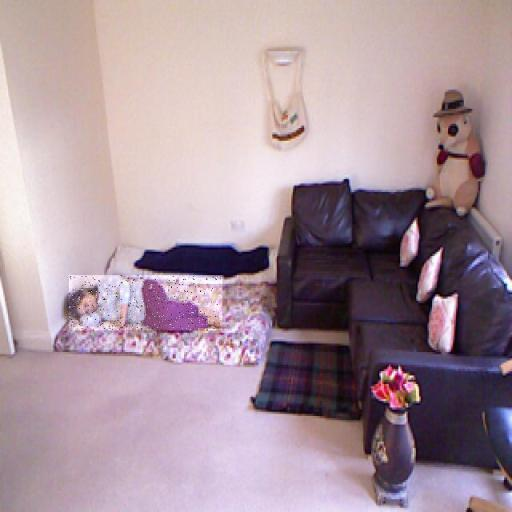Fall: (69, 276, 222, 331)
